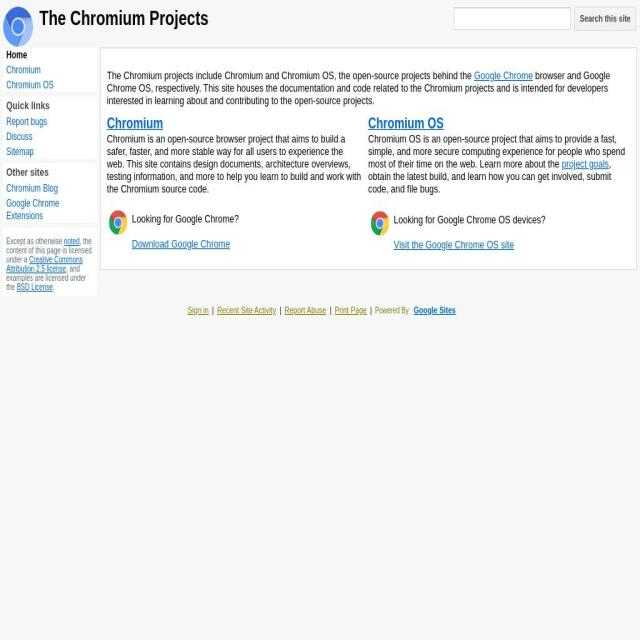button: (6, 198, 97, 222), (6, 64, 97, 77), (6, 79, 97, 92), (6, 116, 97, 128), (6, 131, 97, 143), (6, 146, 97, 158), (6, 183, 97, 195)
field: (453, 8, 571, 30)
heading: (39, 7, 209, 29), (6, 99, 94, 112), (6, 166, 94, 178)
image: (3, 6, 33, 46), (108, 209, 128, 236), (370, 210, 390, 237)
link: (394, 238, 514, 251), (132, 238, 230, 250), (474, 69, 534, 82), (217, 305, 276, 315), (561, 158, 609, 170), (284, 305, 327, 315), (414, 305, 456, 315), (334, 305, 367, 315), (188, 305, 210, 315)
text: (107, 69, 610, 107), (107, 133, 361, 195), (368, 132, 625, 170), (368, 157, 611, 195), (107, 69, 474, 82), (6, 237, 92, 264), (6, 264, 86, 292), (394, 213, 546, 226), (574, 7, 636, 31), (7, 255, 82, 273), (368, 115, 444, 132), (132, 213, 239, 225), (3, 49, 97, 62), (107, 115, 163, 132), (6, 237, 64, 246), (16, 282, 53, 292), (375, 306, 409, 315), (64, 237, 80, 246)
